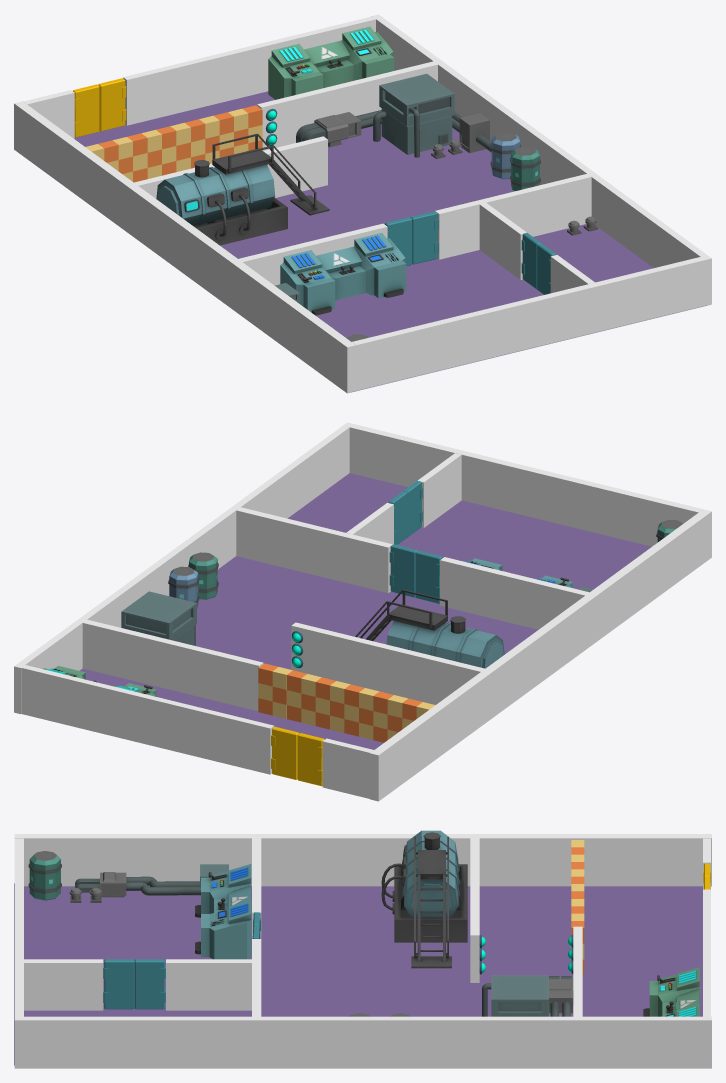
Rendered from maps_34.fbx.
The picture shows the model from 3 angles, top to bottom: view 1: azimuth 30°, elevation 25°; view 2: azimuth 150°, elevation 25°; view 3: azimuth 270°, elevation 25°; orthographic projection. The views are drawn at different scales.
Visible parts, largest first — view 1: wall_01_08_geo, wall_01_07_geo, wall_01_05_geo, wall_01_06_geo, tankwater_geo, wall_01_10_geo, table_01_geo1, wall_01_03_geo5, table_01_geo, generatorStation_05_geo, wall_01_03_geo3, wall_01_03_geo2 (+11 smaller); view 2: wall_01_08_geo, wall_01_07_geo, wall_01_05_geo, wall_01_10_geo, wall_01_06_geo, wall_01_03_geo3, wall_01_03_geo2, wall_01_03_geo5, wall_01_03_geo4, tankwater_geo, generatorStation_05_geo, wall_01_09_geo (+8 smaller); view 3: wall_01_08_geo, wall_01_06_geo, wall_01_07_geo, tankwater_geo, table_01_geo1, wall_01_11_geo, wall_01_11_geo1, generatorStation_05_geo, generatorStation_04_geo, table_01_geo, wall_01_05_geo, polySurface174 (+8 smaller).
Part boxes in pixels (box(x1,y1,x2,y2)): wall_01_08_geo: box(74, 91, 707, 392); wall_01_07_geo: box(14, 101, 355, 393); wall_01_05_geo: box(352, 257, 705, 391); wall_01_06_geo: box(372, 14, 711, 305); tankwater_geo: box(156, 133, 329, 245); wall_01_10_geo: box(123, 16, 375, 125); table_01_geo1: box(280, 233, 406, 315); wall_01_03_geo5: box(435, 174, 591, 259); table_01_geo: box(268, 26, 394, 99); generatorStation_05_geo: box(373, 73, 454, 157); wall_01_03_geo3: box(257, 61, 437, 150); wall_01_03_geo2: box(133, 136, 327, 198); wall_01_08_geo: box(79, 473, 651, 749); wall_01_07_geo: box(370, 509, 711, 801); wall_01_05_geo: box(349, 424, 702, 546); wall_01_10_geo: box(21, 665, 274, 774); wall_01_06_geo: box(14, 422, 353, 714); wall_01_03_geo3: box(82, 619, 263, 710); wall_01_03_geo2: box(291, 622, 484, 704); wall_01_03_geo5: box(236, 507, 392, 592); wall_01_03_geo4: box(440, 557, 589, 629); tankwater_geo: box(355, 589, 504, 668); generatorStation_05_geo: box(121, 591, 196, 645); wall_01_09_geo: box(322, 738, 373, 798); wall_01_08_geo: box(14, 883, 702, 1065); wall_01_06_geo: box(14, 1016, 711, 1068); wall_01_07_geo: box(14, 834, 711, 886); tankwater_geo: box(381, 830, 467, 968); table_01_geo1: box(195, 864, 251, 959); wall_01_11_geo: box(166, 959, 251, 1010); wall_01_11_geo1: box(24, 959, 103, 1010); generatorStation_05_geo: box(482, 975, 548, 1016); generatorStation_04_geo: box(75, 864, 228, 897); table_01_geo: box(643, 967, 699, 1016); wall_01_05_geo: box(14, 838, 23, 1016); polySurface174: box(134, 959, 165, 1009).
Size of the model in its own units: 73.34 by 15.59 by 116.
9 materials, 9 textured.
